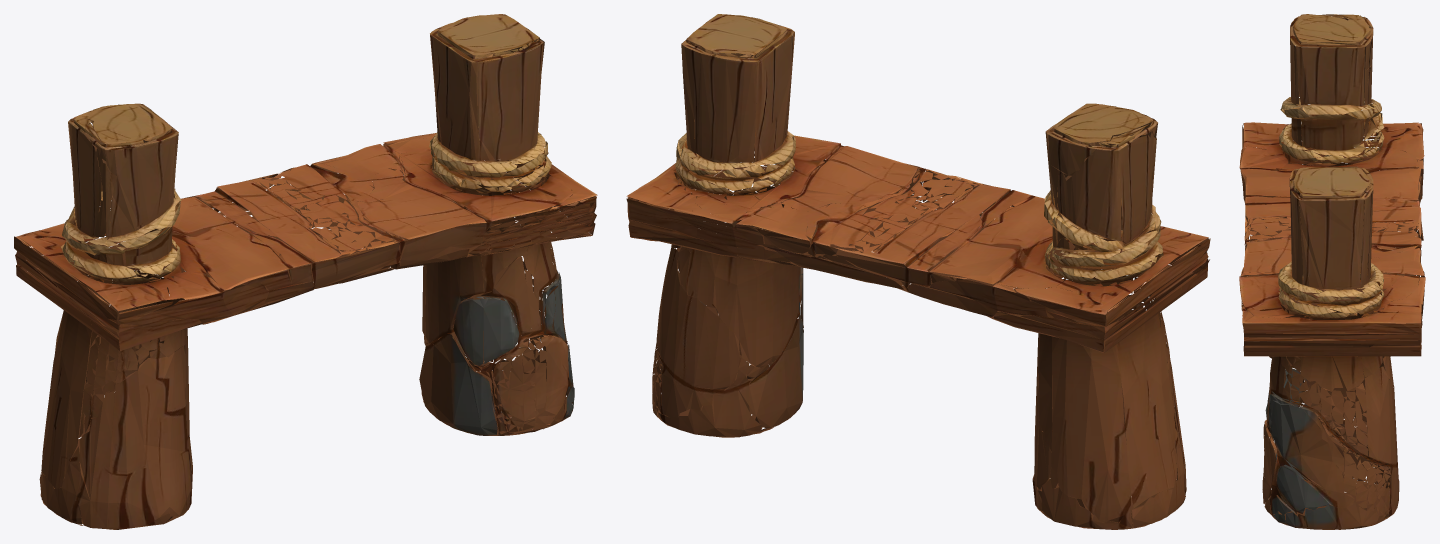
Rendered from pier.glb.
3 renders of one model, left to right at view 1: azimuth 30°, elevation 25°; view 2: azimuth 150°, elevation 25°; view 3: azimuth 270°, elevation 25°, orthographic. The views are drawn at different scales.
Parts seen in each view (by area): view 1: material; view 2: material; view 3: material.
Boxes of the visible parts, left/top/right/bottom form: material: left=14, top=14, right=597, bottom=529; material: left=626, top=14, right=1210, bottom=529; material: left=1239, top=14, right=1425, bottom=529.
Bounding box in the file's own units: 1.3 × 0.9199 × 0.4859.
Materials: 1 (1 with a texture image).
